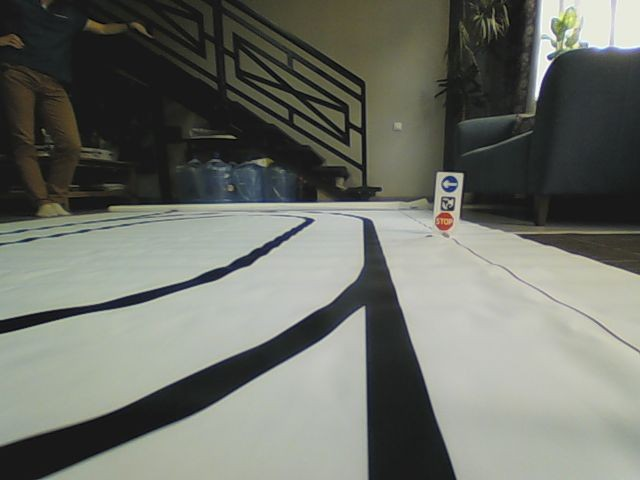Stop: (434, 211, 454, 231)
